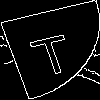T: (25, 25, 77, 78)
